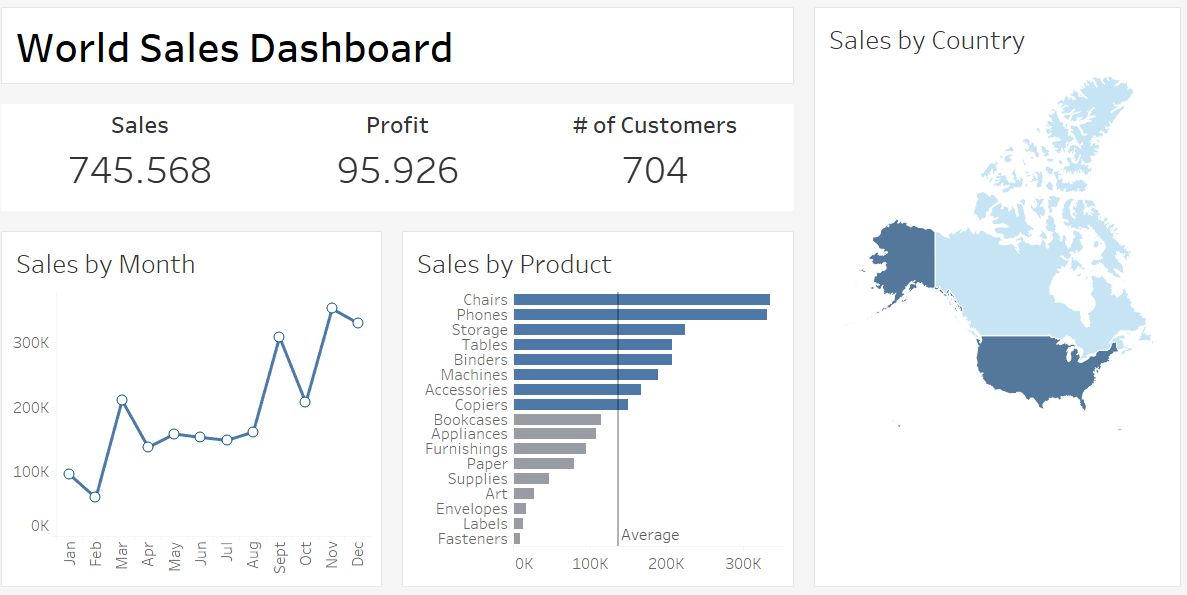

The dashboard page shown, as its layout file describes it:
{"tool":"tableau","page":{"name":"Dashboard 1","canvas":[1200,600],"ordinal":0},"visuals":[{"type":"text","box":[0,0,813,97]},{"type":"worksheet","title":"Sales by Country","mark":"Automatic","box":[813,0,387,600]},{"type":"worksheet","title":"KPIs","mark":"Automatic","box":[0,97,813,127]},{"type":"worksheet","title":"Sales by Month","mark":"Automatic","rows":["Sales","Sales"],"cols":["Order Date"],"box":[0,224,401,376]},{"type":"worksheet","title":"Sales by Product","mark":"Automatic","rows":["Sub-Category"],"cols":["Sales"],"box":[401,224,412,376]}]}

Visuals, with their boxes in screenshot pixels (x1, y1, x2, y2), scaled from the page's 1200x600 canvas onto the 1187x595 screenshot:
text: bbox=[0, 0, 804, 96]
"Sales by Country" worksheet: bbox=[804, 0, 1186, 594]
"KPIs" worksheet: bbox=[0, 96, 804, 222]
"Sales by Month" worksheet: bbox=[0, 222, 397, 594]
"Sales by Product" worksheet: bbox=[397, 222, 804, 594]
